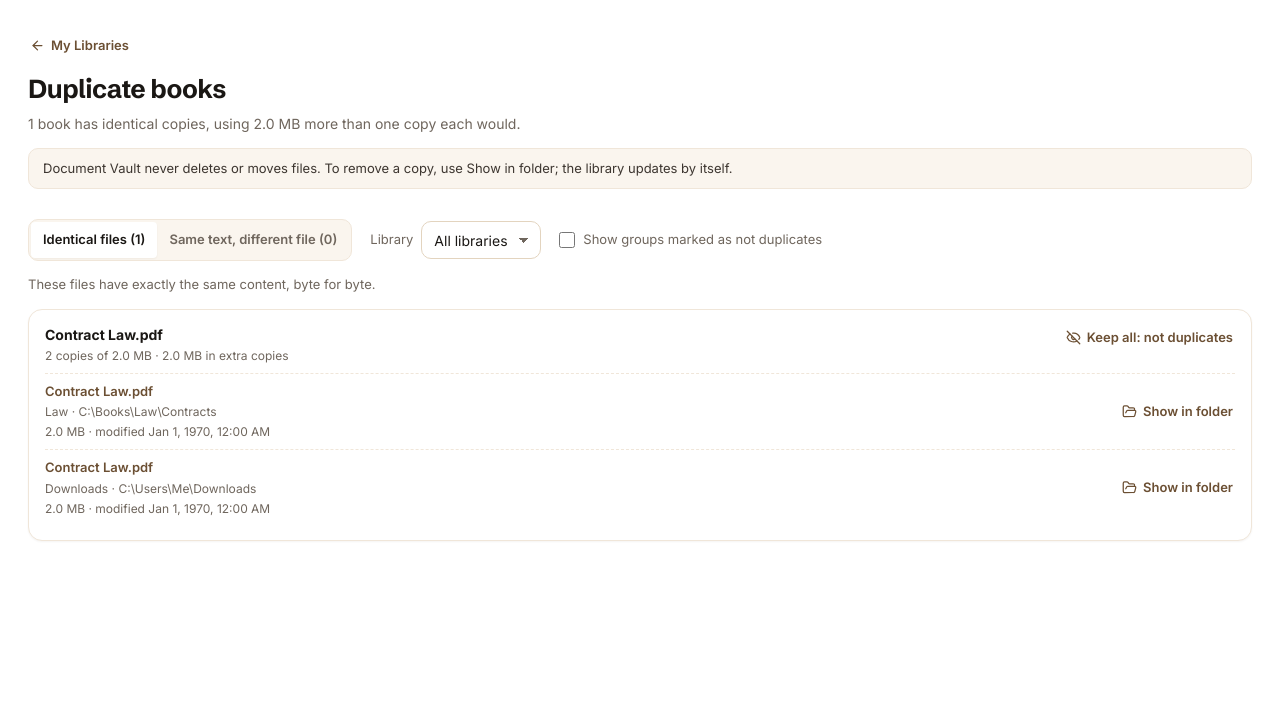
it: Duplicates › marks a group as not duplicates and reloads the list
Click the button "Keep all: not duplicates". click: (1149, 337)
box: 1064,324 -> 1235,351
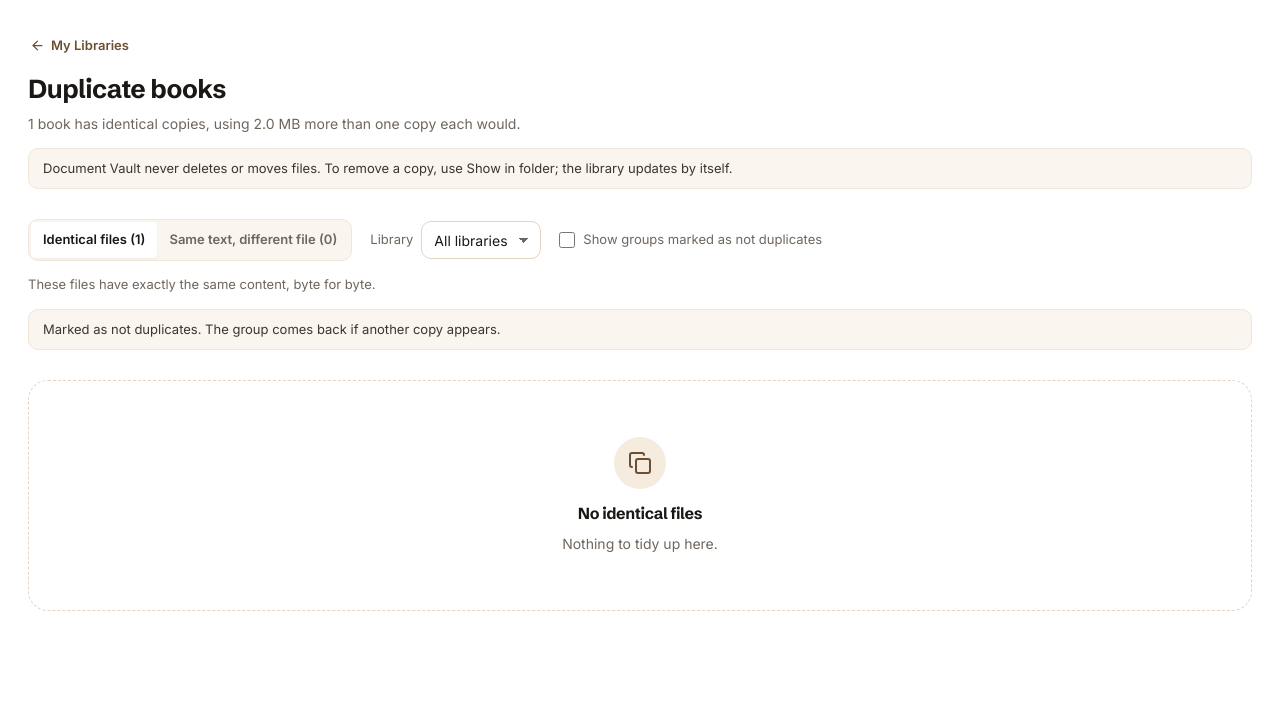
Now the text "The group comes back if another copy appears." is shown, box 43,320 -> 501,336
Now the text "No identical files" is shown, box 578,501 -> 702,525
